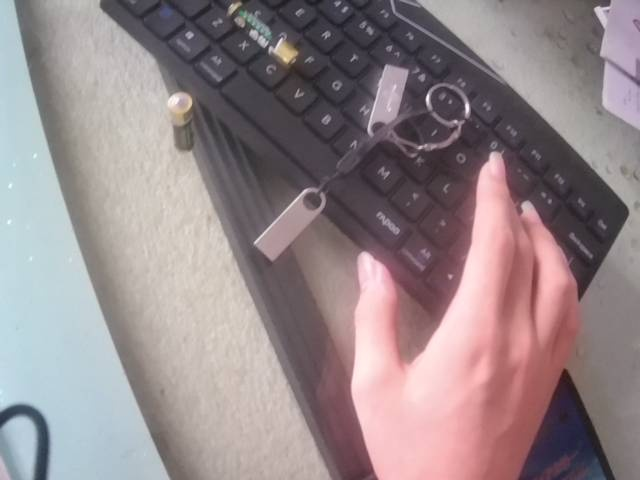U-disk: (367, 60, 469, 152), (248, 184, 330, 268)
battery: (218, 3, 303, 71), (165, 88, 200, 154)
